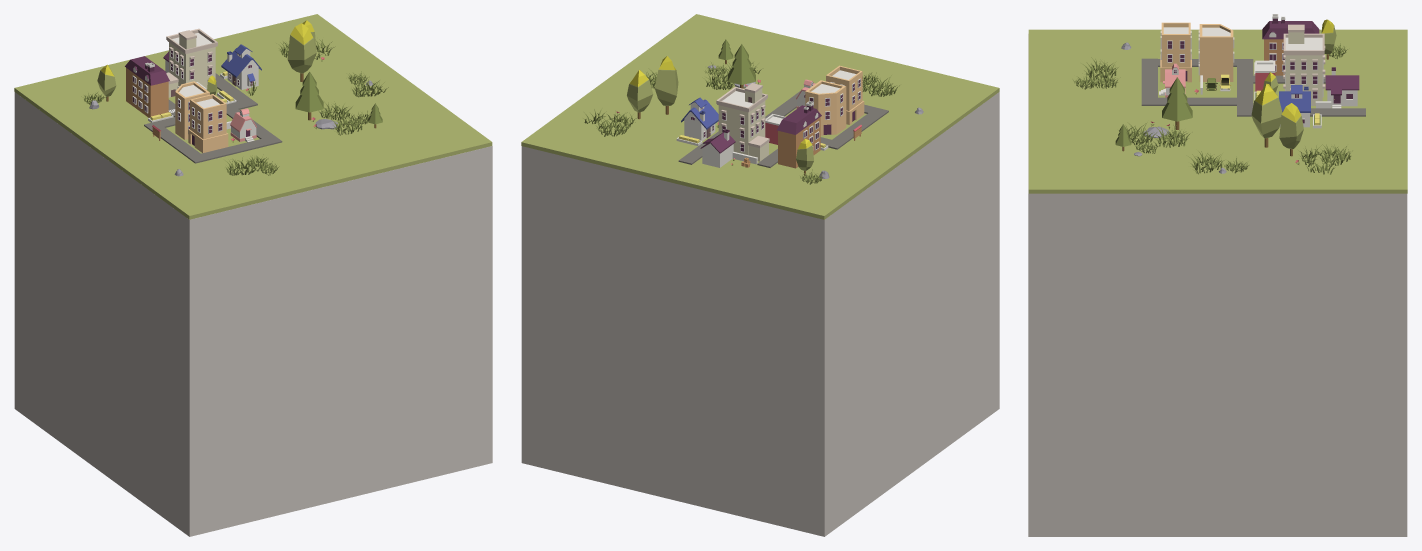
The model's file is Town2.fbx.
The picture shows the model from 3 angles, left to right: view 1: azimuth 30°, elevation 25°; view 2: azimuth 150°, elevation 25°; view 3: azimuth 270°, elevation 25°; orthographic projection. The views are drawn at different scales.
Visible parts, largest first — view 1: town_2; view 2: town_2; view 3: town_2.
Part boxes in pixels (left/top/right/bottom): town_2: left=14, top=14, right=492, bottom=536; town_2: left=521, top=14, right=999, bottom=536; town_2: left=1028, top=14, right=1407, bottom=536.
Size of the model in its own units: 12 by 14.47 by 12.02.
